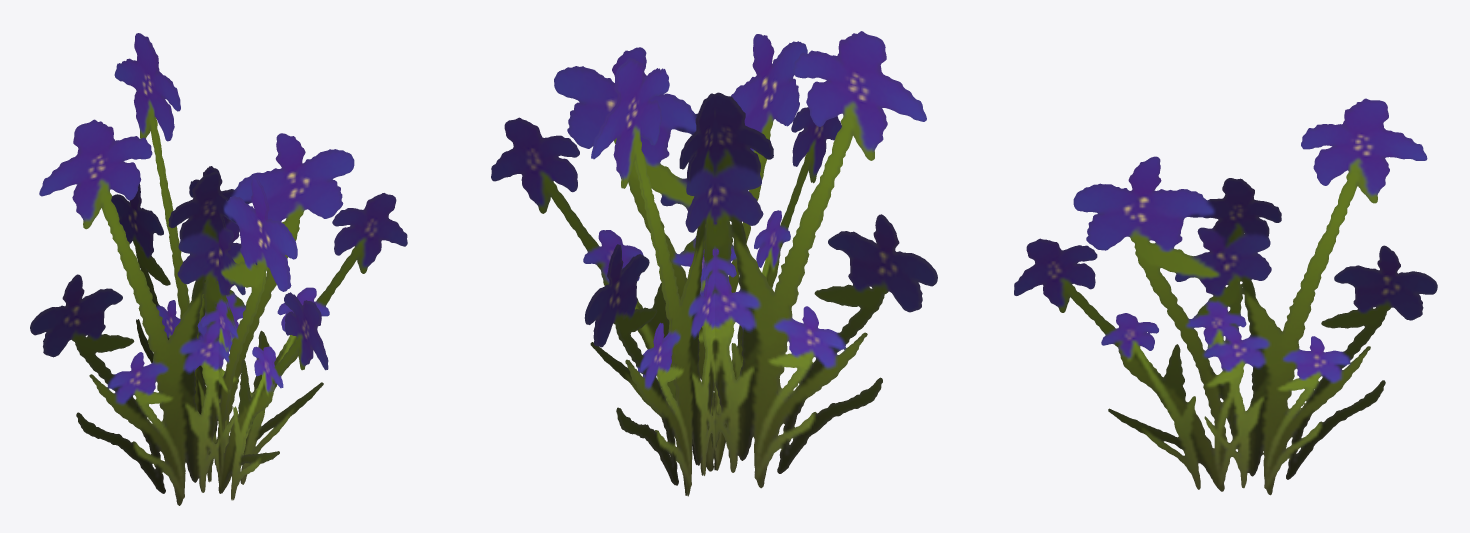
The model's file is painted-flower-2.glb.
The picture shows the model from 3 angles, left to right: view 1: azimuth 30°, elevation 25°; view 2: azimuth 150°, elevation 25°; view 3: azimuth 270°, elevation 25°; orthographic projection. The views are drawn at different scales.
Bounding box in the file's own units: 5.24 × 5.11 × 5.24.
1 material, 1 textured.
